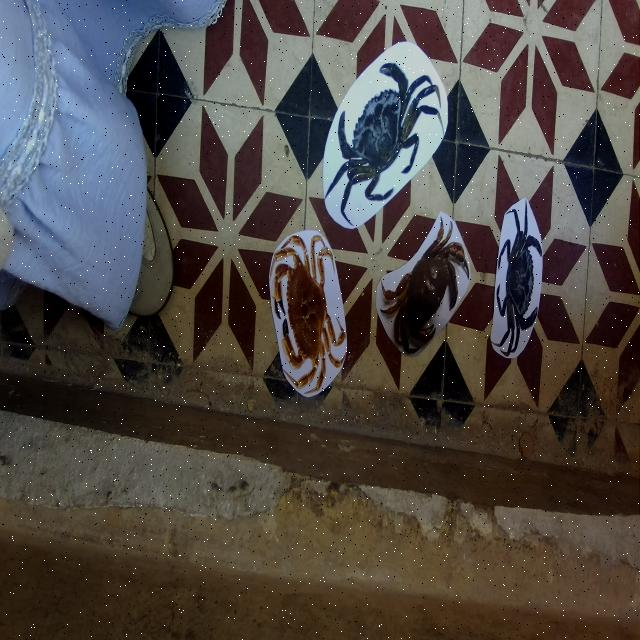European_Green_Crab: (306, 27, 452, 251), (490, 193, 548, 365)
